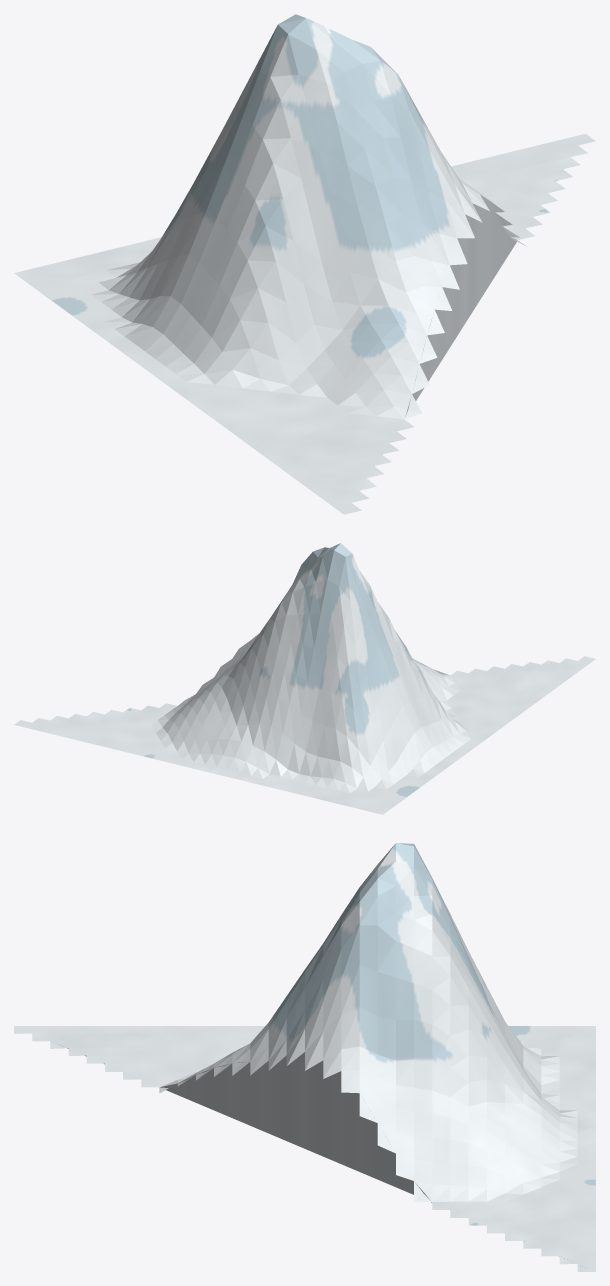
Rendered from Snow_Mountains_01_SW.obj.
3 renders of one model, top to bottom at view 1: azimuth 30°, elevation 25°; view 2: azimuth 150°, elevation 25°; view 3: azimuth 270°, elevation 25°, orthographic. The views are drawn at different scales.
Bounding box in the file's own units: 10 × 4.92 × 10.
Materials: 1 (1 with a texture image).
